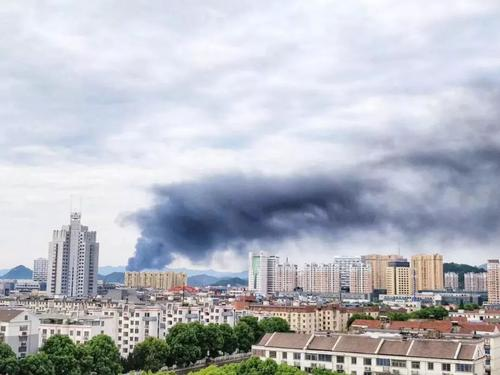smoke: (145, 134, 490, 244)
